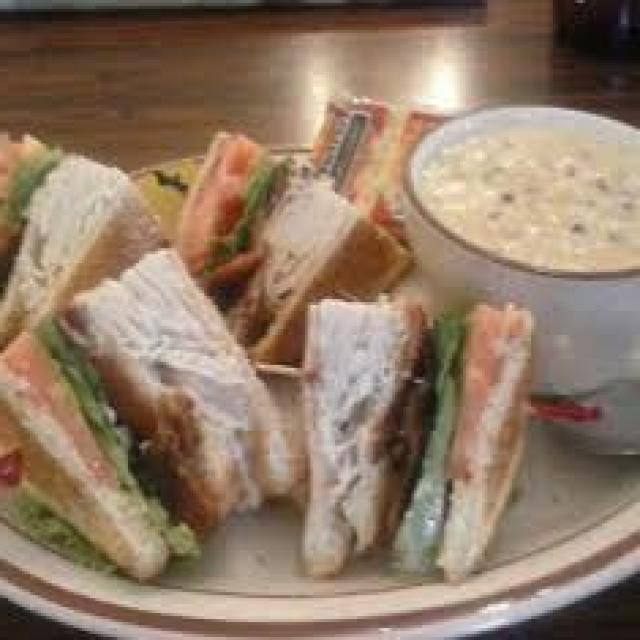Sandwich: (3, 75, 517, 598)
